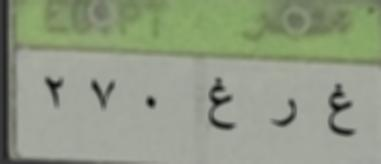0: (140, 83, 167, 124)
2: (34, 73, 72, 120)
7: (83, 76, 125, 118)
ghayn: (322, 77, 358, 147), (200, 76, 240, 138)
raa: (268, 98, 305, 138)
